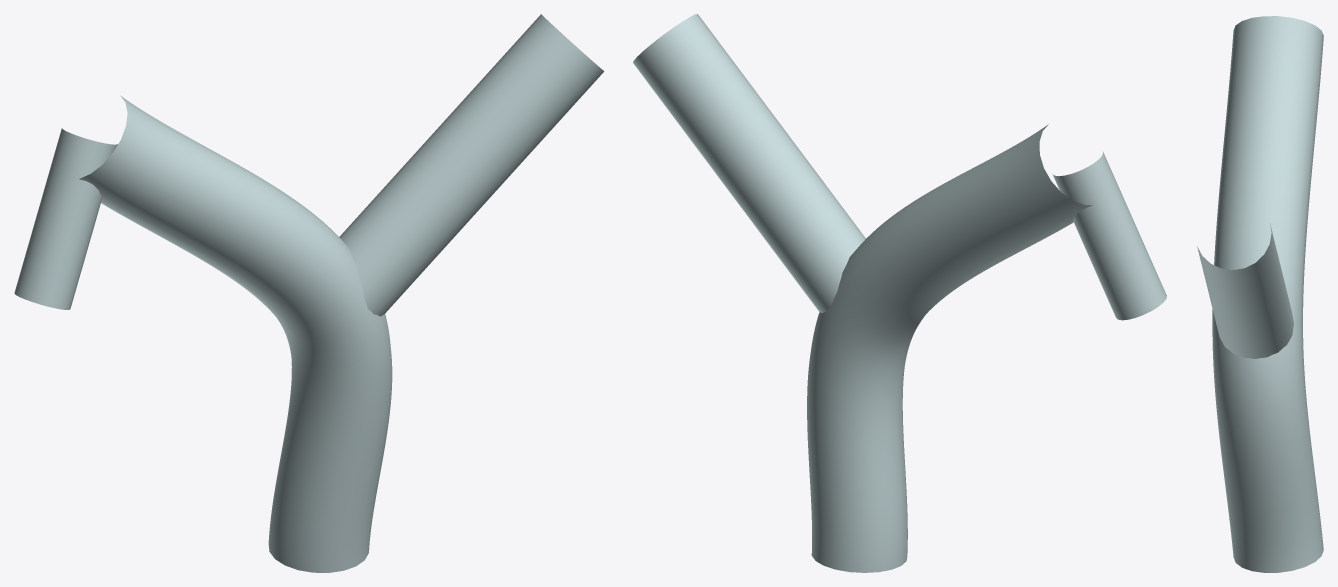
3 views of the same model, side by side, from view 1: azimuth 30°, elevation 25°; view 2: azimuth 150°, elevation 25°; view 3: azimuth 270°, elevation 25° (orthographic). The views are drawn at different scales.
Parts seen in each view (by area): view 1: strand-main, strand-branch, strand-return; view 2: strand-main, strand-branch, strand-return; view 3: strand-main, strand-branch.
Part boxes in pixels (x1,y1,x2,y2): strand-main: [79, 95, 392, 572]; strand-branch: [339, 14, 604, 316]; strand-return: [14, 128, 117, 309]; strand-main: [807, 124, 1092, 572]; strand-branch: [633, 14, 865, 313]; strand-return: [1052, 152, 1166, 320]; strand-main: [1212, 16, 1323, 572]; strand-branch: [1197, 223, 1293, 358].
Size of the model in its own units: 1.67 by 1.44 by 0.3694.
